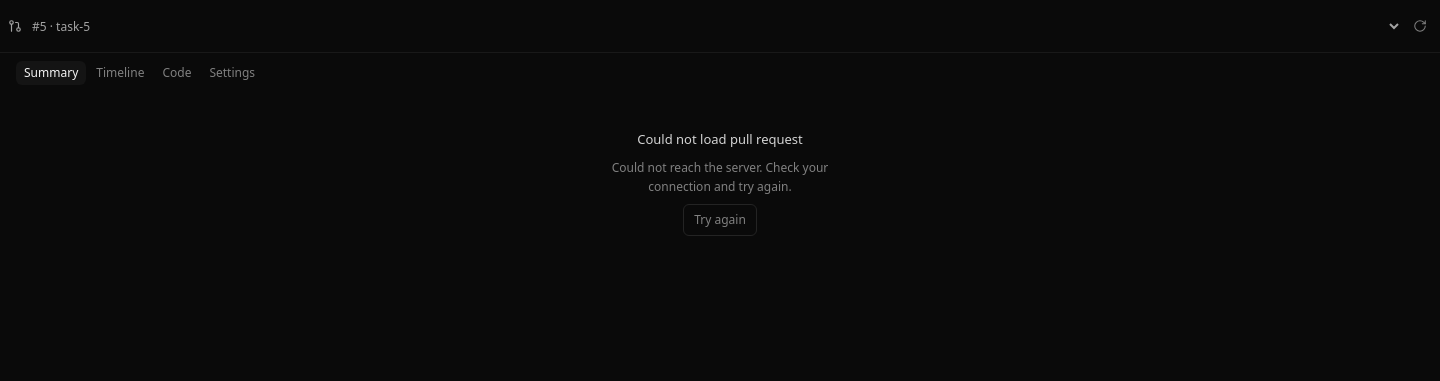
Test: pull request panel › shows the full error on first load and can retry
Expected: the message shows "Could not load pull request", [637,130,803,148]
Expected: the heading "Panel change 5" is not shown
Click the button "Try again" at x=720, y=220, box [683,204,757,236]
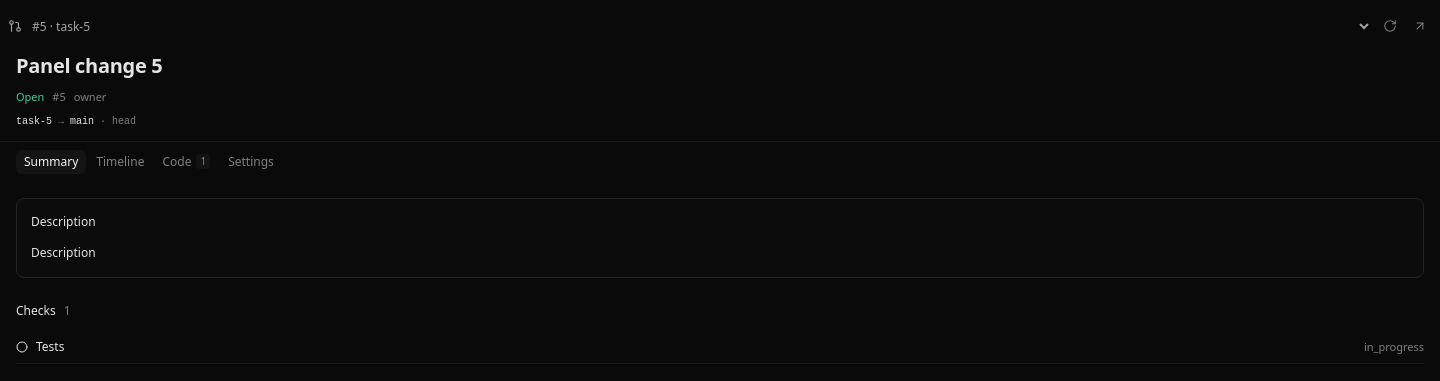
Expected: the heading "Panel change 5" is shown, [16,52,162,79]
Expected: the message is gone
